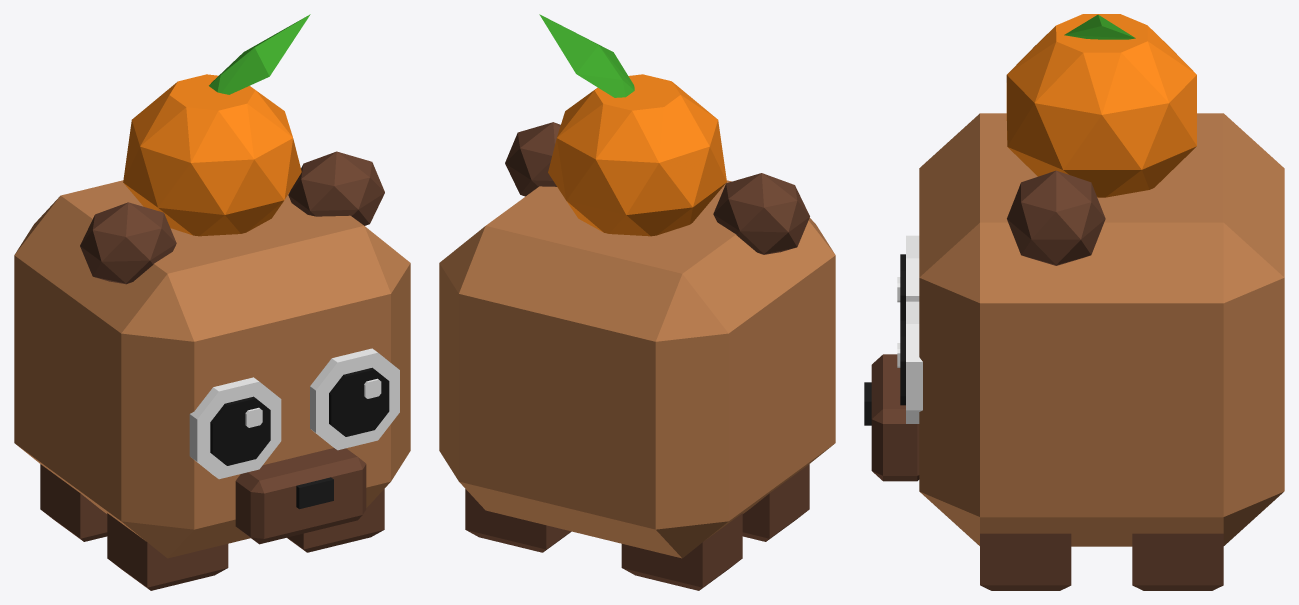
The model's file is Capybara.fbx.
3 views of the same model, side by side, from view 1: azimuth 30°, elevation 25°; view 2: azimuth 150°, elevation 25°; view 3: azimuth 270°, elevation 25° (orthographic). The views are drawn at different scales.
Visible parts, largest first — view 1: Capybara, Capybara_Dark, Capybara_Orange, Capybara_Eyes, Capybara_Pupils, Capybara_Leaf, Capybara_Nose; view 2: Capybara, Capybara_Orange, Capybara_Dark, Capybara_Leaf; view 3: Capybara, Capybara_Orange, Capybara_Dark, Capybara_Eyes, Capybara_Leaf, Capybara_Pupils.
Part boxes in pixels (x1=…): Capybara: x1=14, y1=180, x2=410, y2=558; Capybara_Dark: x1=40, y1=151, x2=384, y2=590; Capybara_Orange: x1=123, y1=74, x2=301, y2=236; Capybara_Eyes: x1=189, y1=348, x2=399, y2=479; Capybara_Pupils: x1=210, y1=367, x2=389, y2=465; Capybara_Leaf: x1=209, y1=14, x2=310, y2=94; Capybara_Nose: x1=296, y1=477, x2=333, y2=509; Capybara: x1=439, y1=180, x2=835, y2=558; Capybara_Orange: x1=548, y1=74, x2=726, y2=236; Capybara_Dark: x1=465, y1=122, x2=809, y2=590; Capybara_Leaf: x1=539, y1=14, x2=634, y2=97; Capybara: x1=919, y1=113, x2=1284, y2=546; Capybara_Orange: x1=1006, y1=14, x2=1196, y2=197; Capybara_Dark: x1=871, y1=170, x2=1223, y2=590; Capybara_Eyes: x1=897, y1=235, x2=922, y2=423; Capybara_Leaf: x1=1064, y1=14, x2=1135, y2=39; Capybara_Pupils: x1=900, y1=254, x2=905, y2=405.
Size of the model in its own units: 2 by 3.24 by 2.21.
